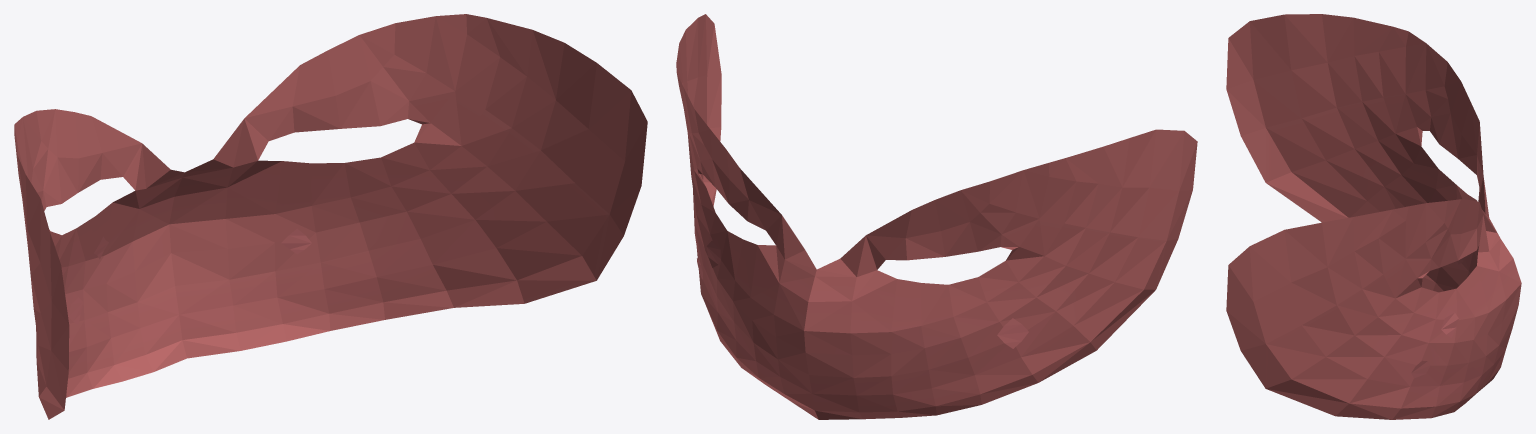
File: CharSkyKid_Mask_AP32Freckle.glb
3 views of the same model, side by side, from view 1: azimuth 30°, elevation 25°; view 2: azimuth 150°, elevation 25°; view 3: azimuth 270°, elevation 25° (orthographic). The views are drawn at different scales.
Visible parts, largest first — view 1: CharSkyKid_Mask_AP32Freckle; view 2: CharSkyKid_Mask_AP32Freckle; view 3: CharSkyKid_Mask_AP32Freckle.
Part boxes in pixels (x1,y1,x2,y2): CharSkyKid_Mask_AP32Freckle: (14,14,647,419); CharSkyKid_Mask_AP32Freckle: (676,14,1197,419); CharSkyKid_Mask_AP32Freckle: (1226,14,1521,419).
Bounding box in the file's own units: 2.13 × 1.15 × 1.17.
Materials: 1 (1 with a texture image).
